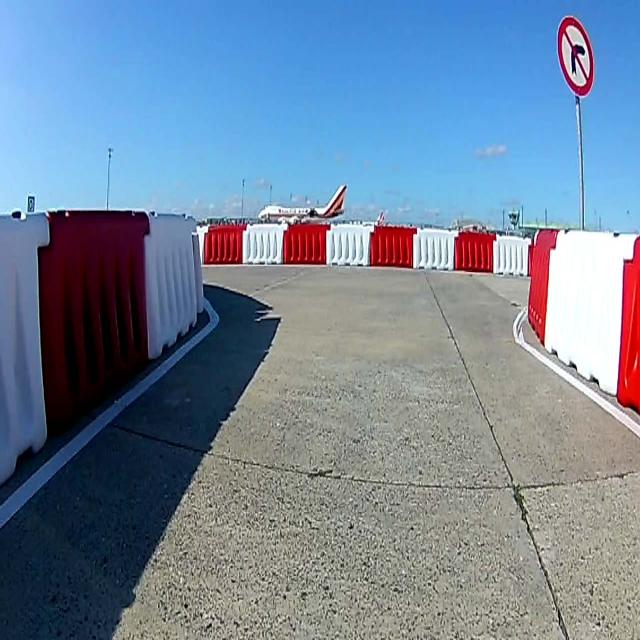sagadonulmez: (558, 17, 594, 94)
